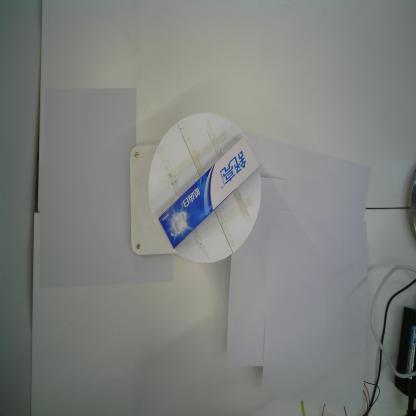Personal Hygiene: (157, 136, 261, 250)
